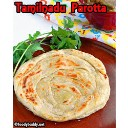parota: (14, 49, 109, 121)
